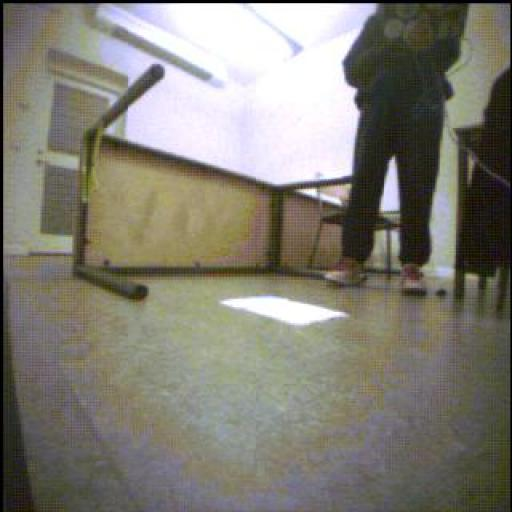Pad: (222, 297, 350, 327)
